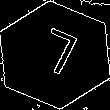L_SW: (28, 26, 82, 84)
